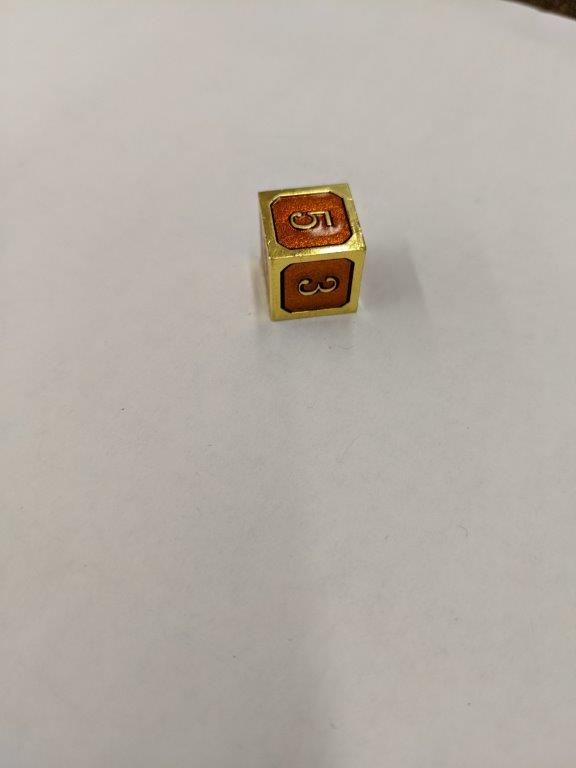d6-5: (256, 179, 367, 323)
